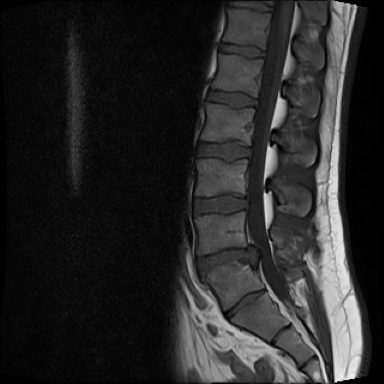Lumbar Disc Bulge LDB: (195, 240, 264, 280)
Normal IVD: (214, 284, 269, 324), (184, 191, 250, 222), (194, 135, 254, 165), (199, 87, 260, 112), (215, 41, 269, 63)
Spinal Stenosis SS: (242, 242, 264, 272)
